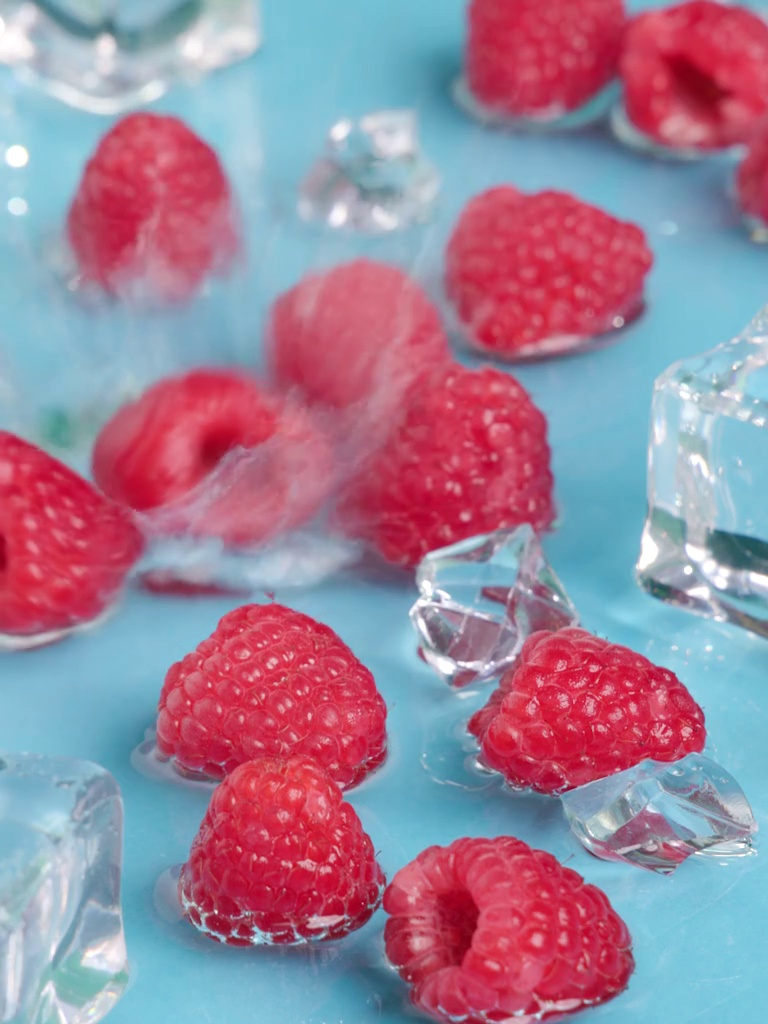Strawberry: (150, 599, 388, 793), (465, 622, 707, 803), (342, 365, 554, 561), (444, 178, 651, 357)
